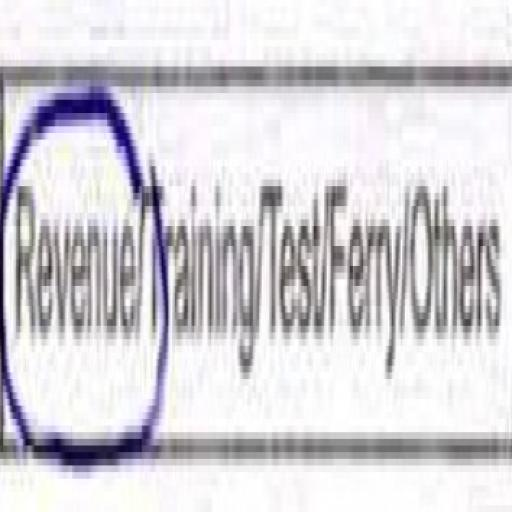check: (0, 13, 140, 511)
